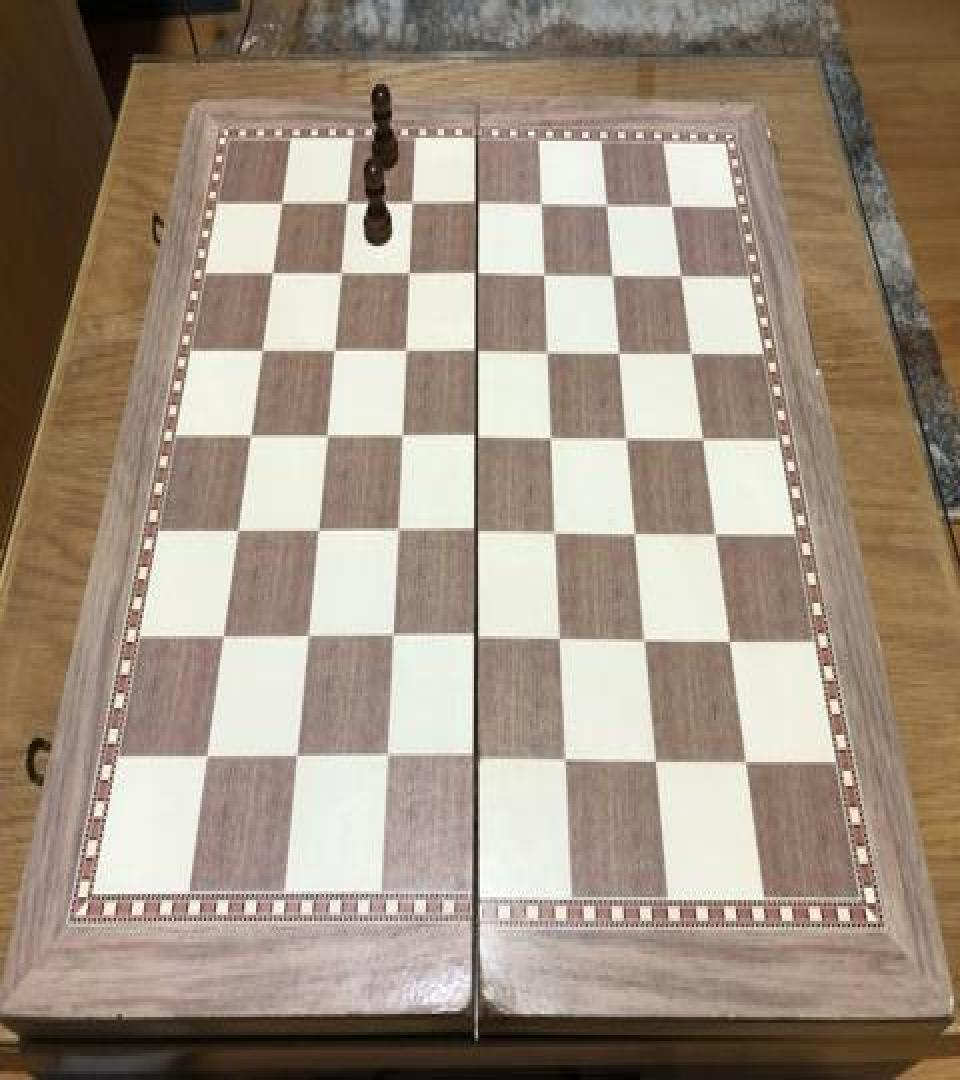xcorner: (305, 514, 329, 551), (226, 514, 250, 551), (632, 622, 656, 659), (548, 622, 572, 659), (643, 742, 667, 779), (374, 739, 398, 776), (284, 739, 308, 776), (659, 192, 683, 228), (594, 192, 618, 228), (529, 192, 553, 228), (464, 192, 488, 228), (399, 192, 423, 228), (335, 192, 359, 228), (271, 192, 295, 228), (668, 261, 692, 297), (600, 261, 624, 297), (532, 261, 556, 297), (464, 261, 488, 297), (396, 261, 420, 297), (329, 261, 353, 297), (261, 261, 285, 297), (678, 338, 702, 374), (607, 338, 631, 374), (535, 338, 559, 374), (464, 338, 488, 374), (393, 338, 417, 374), (322, 336, 346, 372), (251, 336, 275, 372), (690, 423, 714, 459), (614, 423, 638, 459), (539, 422, 563, 458), (464, 422, 488, 458), (389, 422, 413, 458), (314, 422, 338, 458), (239, 420, 263, 456), (703, 518, 727, 554), (623, 518, 647, 554), (543, 516, 567, 552), (464, 516, 488, 552), (384, 516, 408, 552), (717, 624, 741, 660), (463, 621, 487, 657), (379, 621, 403, 657), (295, 621, 319, 657), (211, 620, 235, 656), (733, 744, 757, 780), (553, 741, 577, 777), (463, 741, 487, 777), (195, 738, 219, 774)
